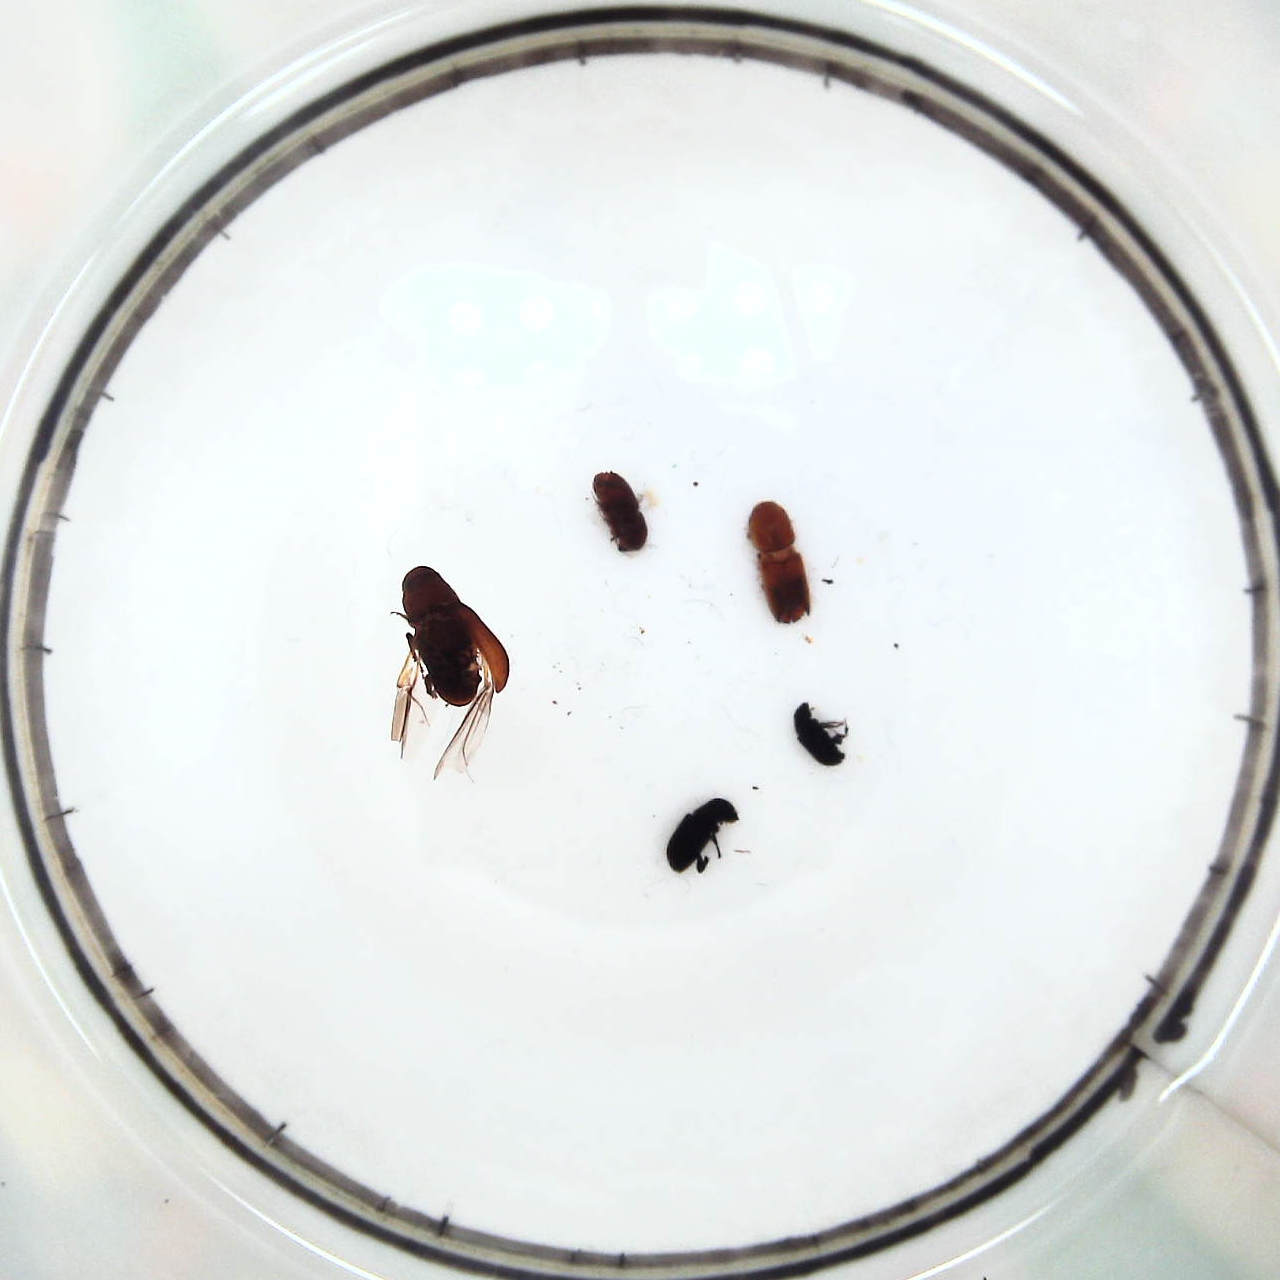Boerner: (745, 499, 812, 633)
Leconte: (392, 564, 506, 772)
Linnaeus: (590, 470, 648, 554)
armandi: (663, 794, 737, 878)
coleoptera: (794, 699, 842, 770)
